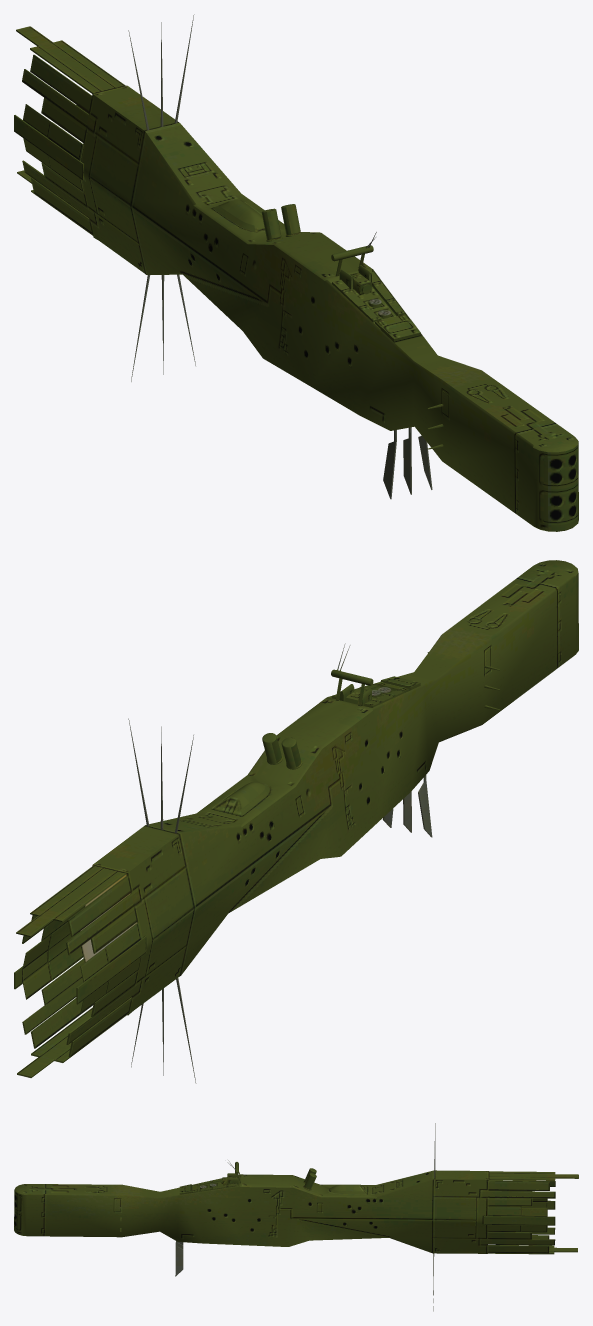
File: FPA_CommandShip_AbaiGeser.obj
3 renders of one model, top to bottom at view 1: azimuth 30°, elevation 25°; view 2: azimuth 150°, elevation 25°; view 3: azimuth 270°, elevation 25°, orthographic. The views are drawn at different scales.
Visible parts, largest first — view 1: FPA_CommandShip_AbaiGeser; view 2: FPA_CommandShip_AbaiGeser; view 3: FPA_CommandShip_AbaiGeser.
Boxes of the visible parts, x1=… form: FPA_CommandShip_AbaiGeser: x1=14, y1=14, x2=578, y2=531; FPA_CommandShip_AbaiGeser: x1=14, y1=560, x2=578, y2=1083; FPA_CommandShip_AbaiGeser: x1=14, y1=1123, x2=578, y2=1311.
Size of the model in its own units: 56.62 by 243 by 680.
